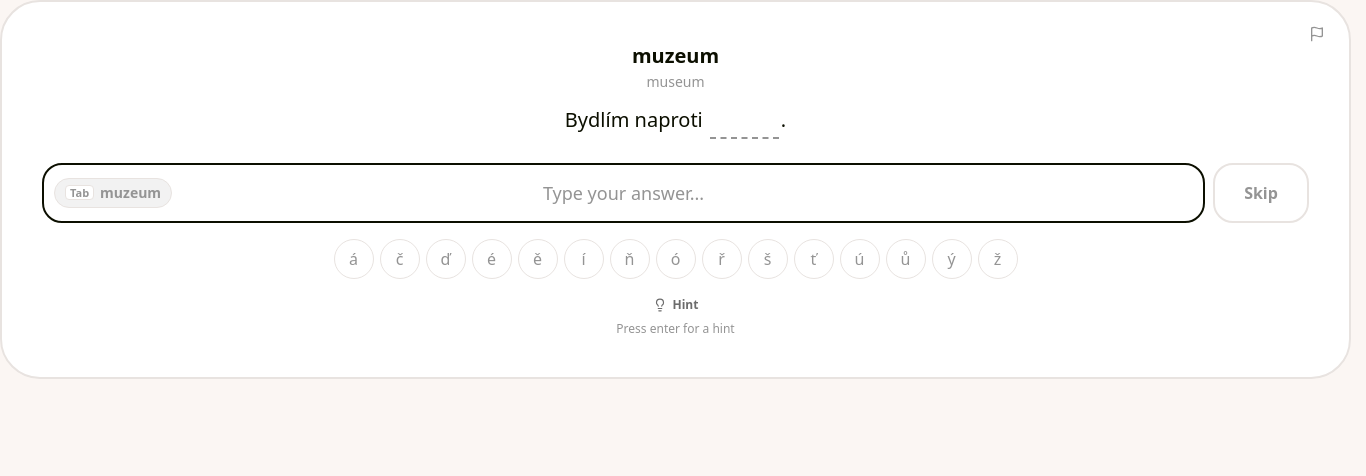
Test: DrillCard hints › the Hint button steps through to the first letters
What coordinates should you click on to do the following:
click the button "Hint"
I would click on:
 (675, 304)
Its box is [640,292,710,316].
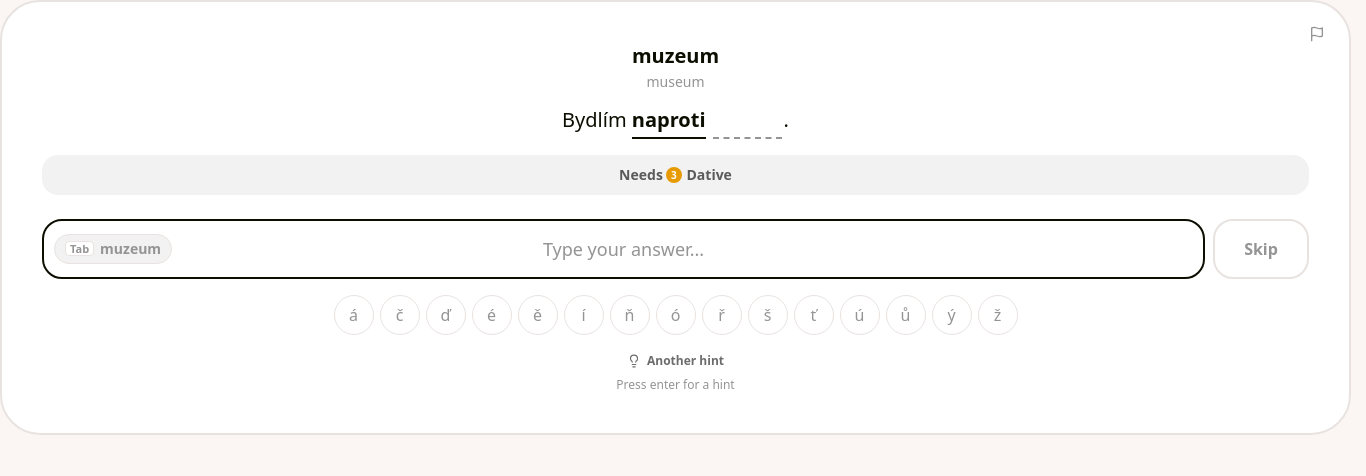
What coordinates should you click on to do the following:
click the button "Another hint"
I would click on:
 (676, 360)
Its box is [615,348,736,372].
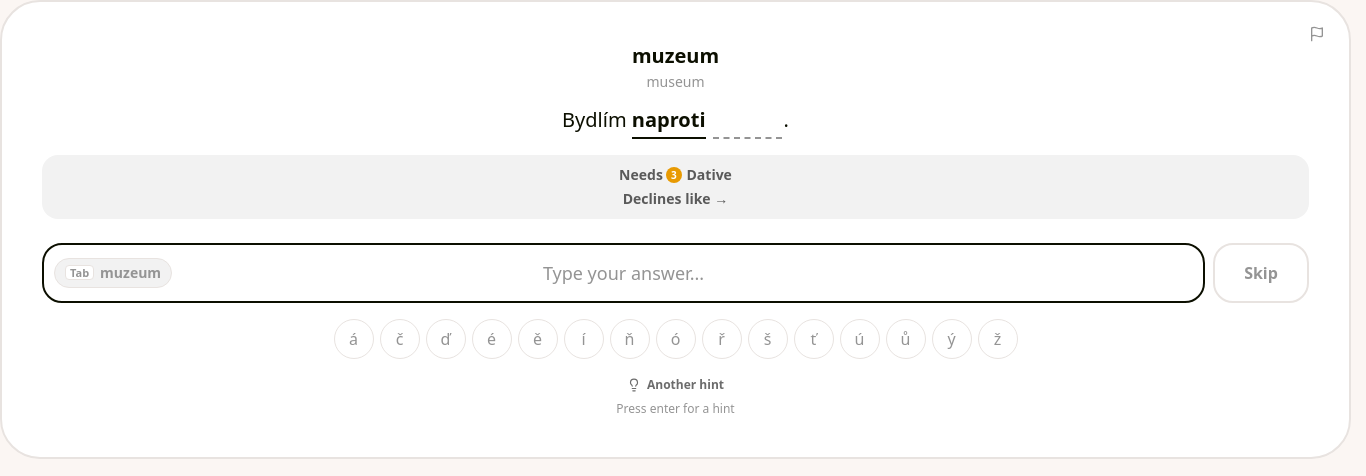
What coordinates should you click on to do the following:
click the button "Another hint"
I would click on:
 (676, 384)
Its box is [615,372,736,396].
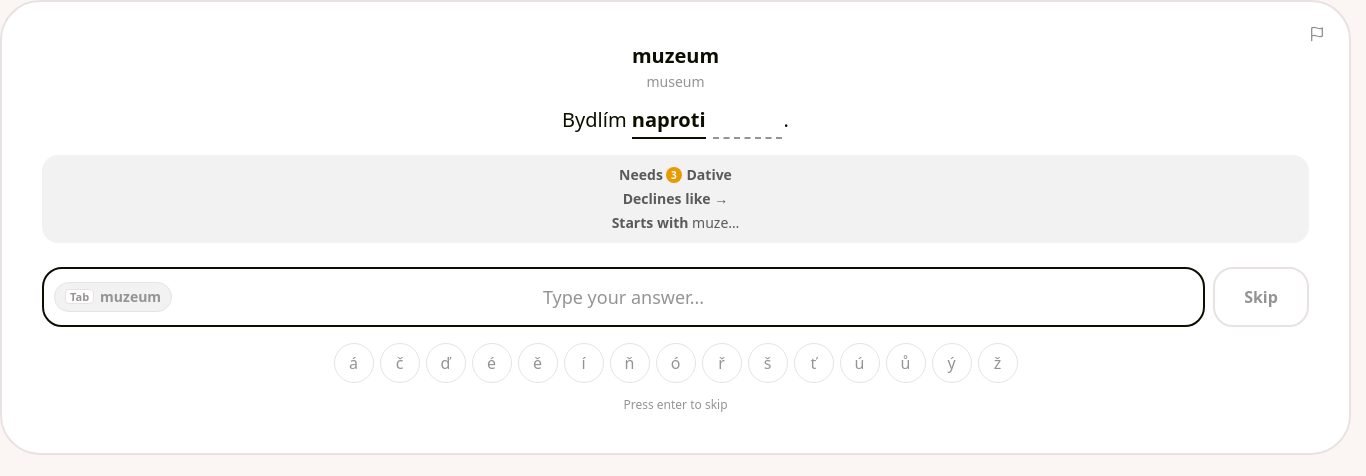
expect the text "Starts with" is shown: met, box [612,212,688,232]
